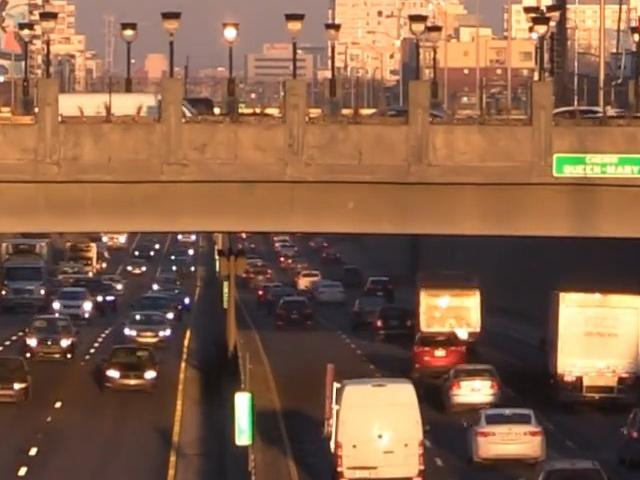car: (467, 405, 550, 471), (442, 366, 508, 413), (97, 345, 160, 392), (410, 333, 469, 379), (27, 315, 77, 366), (523, 457, 616, 480), (119, 313, 176, 347), (0, 354, 33, 403), (52, 285, 93, 322), (376, 302, 414, 341), (133, 298, 178, 324)
truck: (544, 287, 640, 406), (416, 267, 482, 343), (0, 237, 49, 308)
van: (328, 376, 429, 480)
